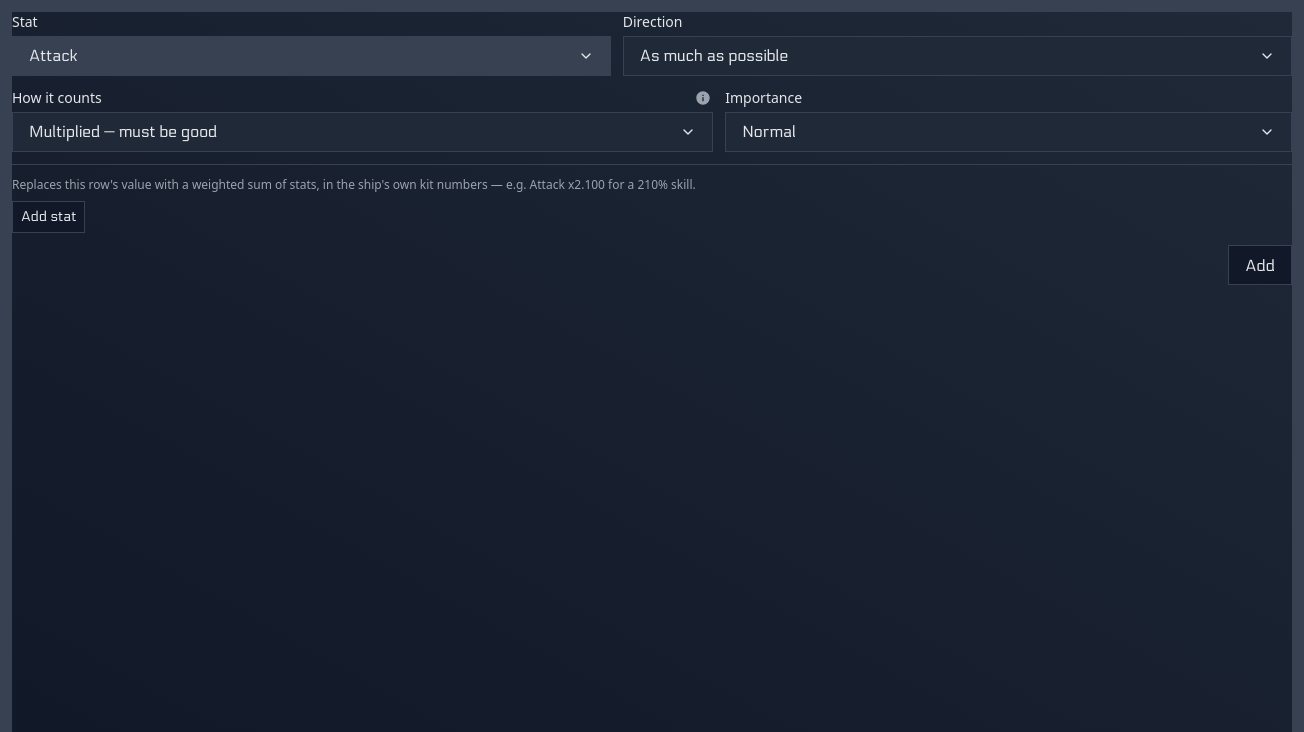
CustomFormulaForm › rejects a negative basis weight with the same inline error as blank/zero
Click the button "Add stat". click: point(49, 217)
box: [12,201,86,233]
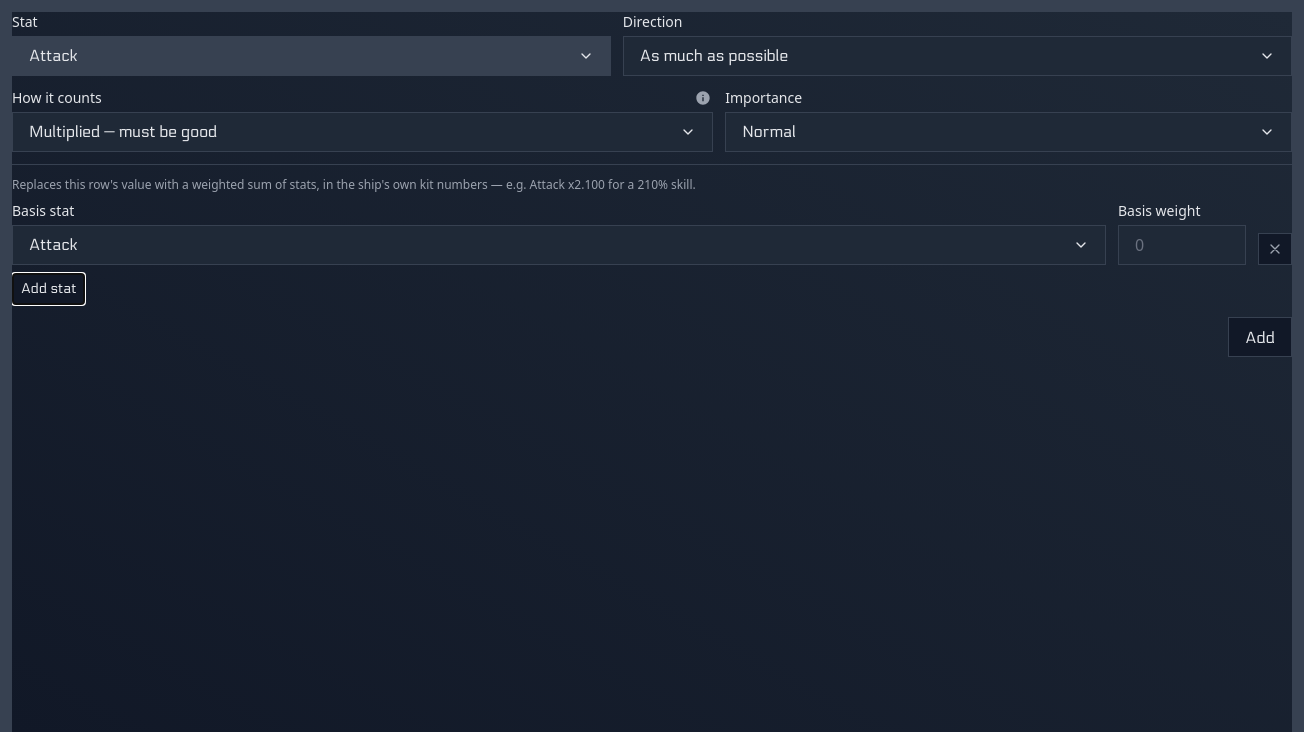
Type "-1" into the number field labelled "Basis weight". click: point(1182, 245)
box: [1118,225,1246,265]
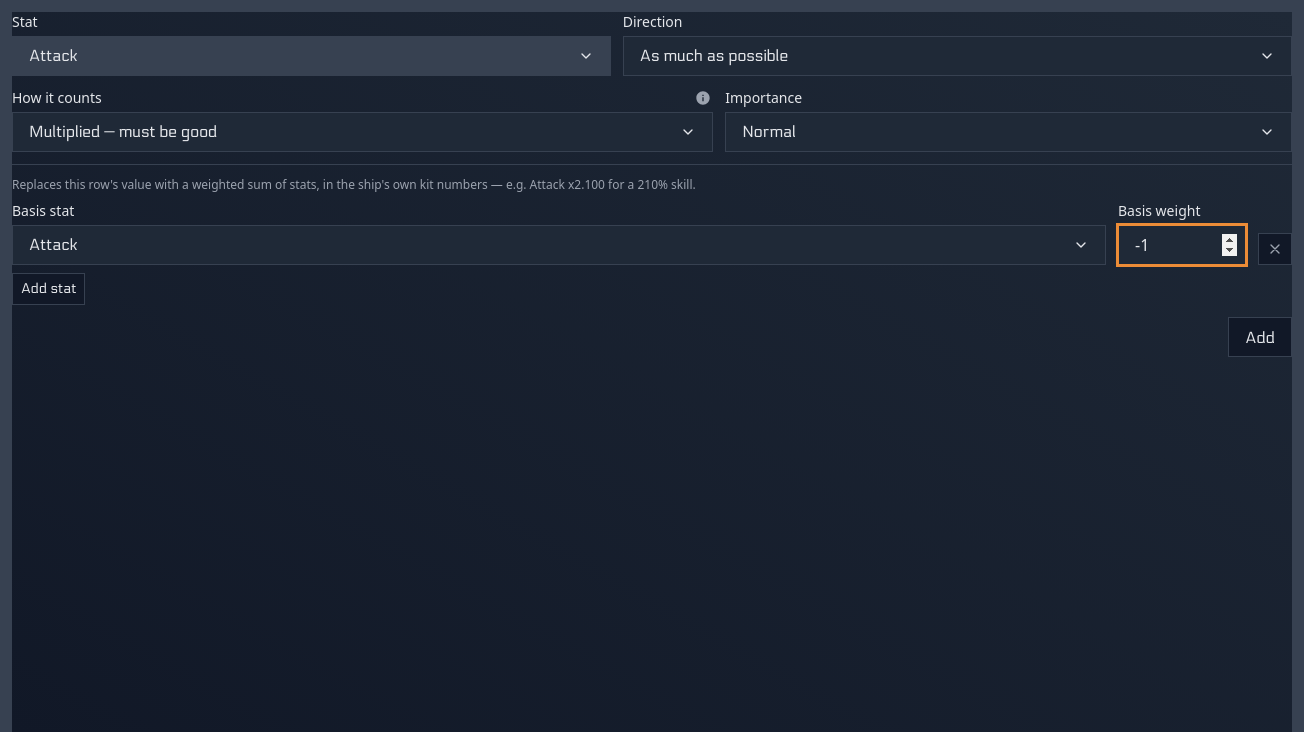
Click the button with aria-label "add formula stat". click: point(1260, 337)
box: [1228,317,1292,357]
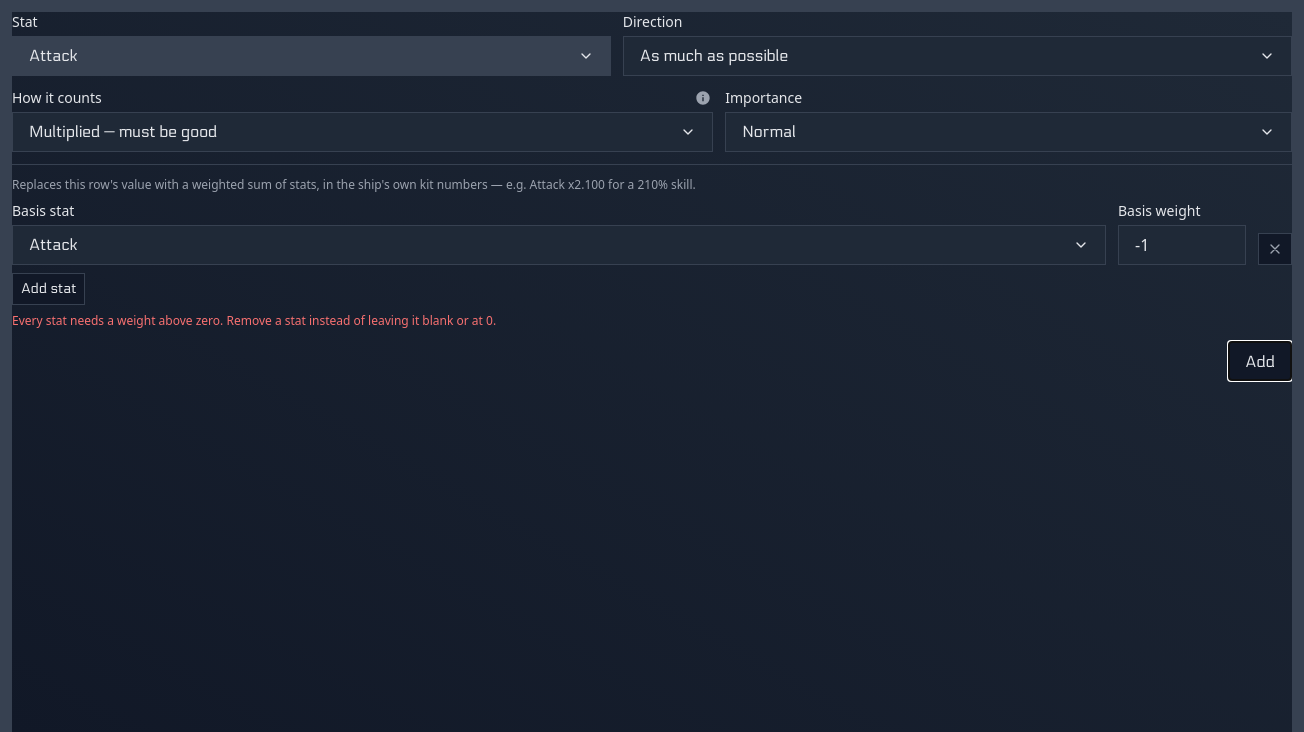
Result: the message is shown at [12,312,496,329]
